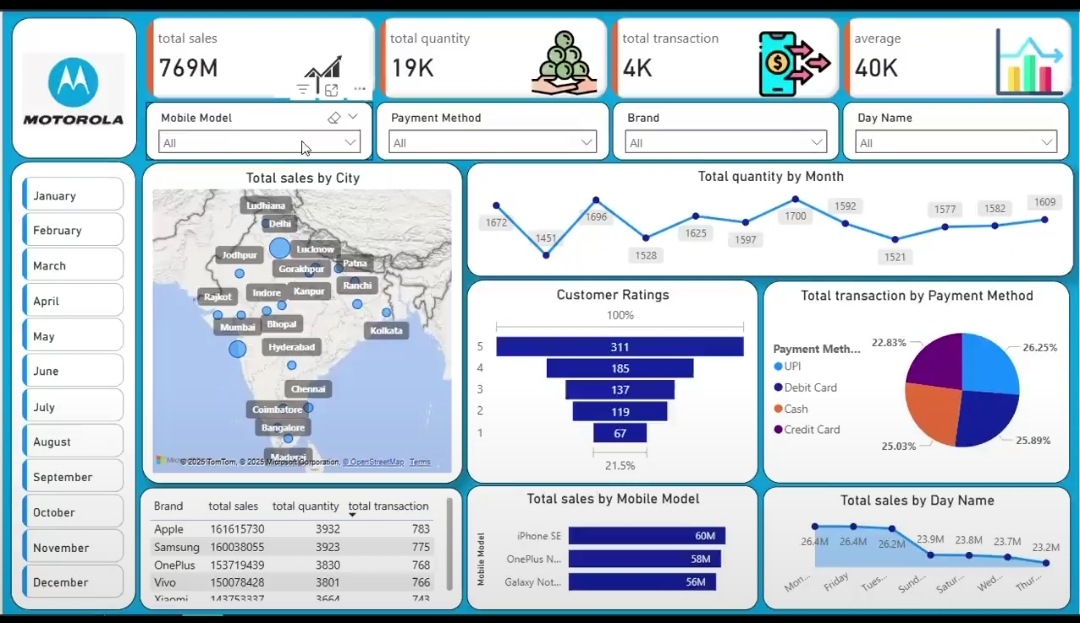

Layout of this report page (visuals, bound fields, positions):
{"tool":"powerbi","page":{"name":"Page 1","canvas":[1280,720],"ordinal":0},"visuals":[{"type":"shape","box":[9.8,179.1,148.5,535],"z":0},{"type":"shape","box":[11,7.4,148.5,168.1],"z":1000},{"type":"image","box":[18.4,20.9,131.3,144.8],"z":2000},{"type":"advancedSlicerVisual","fields":{"Values":["sales data.date.Variation.Date Hierarchy.Month"]},"box":[18.4,192.6,131.3,521.5],"z":3000},{"type":"cardVisual","fields":{"Data":["sales data.total sales","sales data.total quantity","sales data.total transaction","sales data.average"]},"box":[166.9,0,1112.9,116.6],"z":4000},{"type":"map","title":"Total sales by City","fields":{"Category":["sales data.City"],"Size":["sales data.total sales"]},"box":[165.6,180.4,381.6,382.8],"z":5000},{"type":"lineChart","title":"Total quantity by Month","fields":{"Y":["sales data.total quantity"],"Category":["sales data.date.Variation.Date Hierarchy.Month","sales data.date.Variation.Date Hierarchy.Day"]},"box":[552.2,180.4,721.5,136.2],"z":6000},{"type":"clusteredBarChart","title":"Total sales by Mobile Model","fields":{"Category":["sales data.Mobile Model"],"Y":["sales data.total sales"]},"box":[552.2,565.6,346,148.5],"z":7000},{"type":"pieChart","title":"Total transaction by Payment Method","fields":{"Category":["sales data.Payment Method"],"Y":["sales data.total transaction"]},"box":[904.3,321.5,364.4,241.7],"z":8000},{"type":"funnel","title":"Customer Ratings ","fields":{"Category":["sales data.Customer Ratings"],"Y":["CountNonNull(sales data.Customer Ratings)"]},"box":[552.2,320.2,346,242.9],"z":9000},{"type":"areaChart","title":"Total sales by Day Name","fields":{"Y":["sales data.total sales"],"Category":["sales data.Day Name"]},"box":[904.3,566.9,365.6,147.2],"z":10000},{"type":"tableEx","fields":{"Values":["sales data.Brand","sales data.total sales","sales data.total quantity","sales data.total transaction"]},"box":[163.2,568.1,384.1,146],"z":11000},{"type":"slicer","fields":{"Values":["sales data.Mobile Model"]},"box":[170.6,108,269.9,69.9],"z":12000},{"type":"slicer","fields":{"Values":["sales data.Payment Method"]},"box":[444.2,108,277.3,69.9],"z":13000},{"type":"slicer","fields":{"Values":["sales data.Brand"]},"box":[725.2,108,269.9,69.9],"z":14000},{"type":"slicer","fields":{"Values":["sales data.Day Name"]},"box":[998.8,108,269.9,69.9],"z":15000}]}

Visuals, with their boxes in screenshot pixels (x1, y1, x2, y2), scaled from the page's 1280x720 canvas onto the 1080x623 screenshot:
shape: [left=8, top=155, right=134, bottom=618]
shape: [left=9, top=6, right=135, bottom=152]
image: [left=16, top=18, right=126, bottom=143]
advancedSlicerVisual - sales data.date.Variation.Date Hierarchy.Month: [left=16, top=167, right=126, bottom=618]
cardVisual - sales data.total sales x sales data.total quantity: [left=141, top=0, right=1079, bottom=101]
"Total sales by City" map: [left=140, top=156, right=462, bottom=487]
"Total quantity by Month" lineChart: [left=466, top=156, right=1075, bottom=274]
"Total sales by Mobile Model" clusteredBarChart: [left=466, top=489, right=758, bottom=618]
"Total transaction by Payment Method" pieChart: [left=763, top=278, right=1070, bottom=487]
"Customer Ratings " funnel: [left=466, top=277, right=758, bottom=487]
"Total sales by Day Name" areaChart: [left=763, top=491, right=1071, bottom=618]
tableEx - sales data.Brand x sales data.total sales: [left=138, top=492, right=462, bottom=618]
slicer - sales data.Mobile Model: [left=144, top=93, right=372, bottom=154]
slicer - sales data.Payment Method: [left=375, top=93, right=609, bottom=154]
slicer - sales data.Brand: [left=612, top=93, right=840, bottom=154]
slicer - sales data.Day Name: [left=843, top=93, right=1070, bottom=154]
